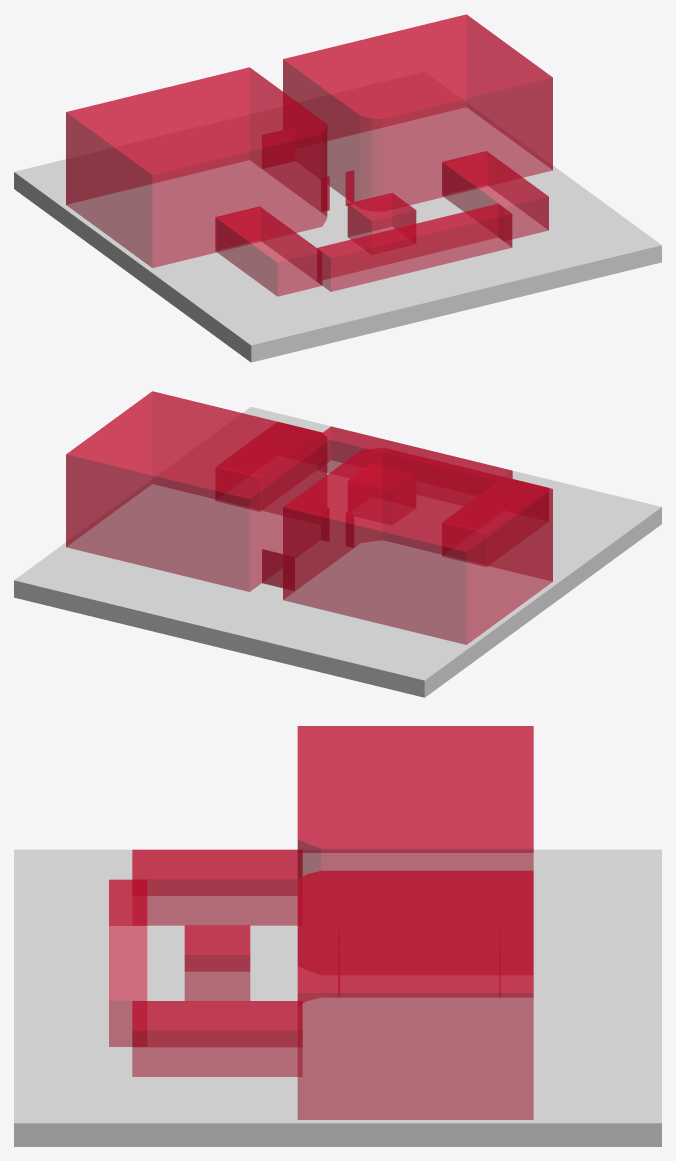
File: school_outside_front.hitboxes.glb
3 views of the same model, one above another, from view 1: azimuth 30°, elevation 25°; view 2: azimuth 150°, elevation 25°; view 3: azimuth 270°, elevation 25° (orthographic). The views are drawn at different scales.
Parts seen in each view (by area): view 1: Floor, HB1, HB3, HB2.003, HB2.002, HB2.001, HB2, HB2.006; view 2: Floor, HB1, HB3, HB2.003, HB2.002, HB2.001, HB2, HB2.006; view 3: Floor, HB3, HB1, HB2.001, HB2.002, HB2.003, HB2.
Boxes of the visible parts, <box> form: Floor: <box>14,72,661,362</box>; HB1: <box>66,67,327,267</box>; HB3: <box>283,14,552,204</box>; HB2.003: <box>317,203,512,291</box>; HB2.002: <box>215,206,322,296</box>; HB2.001: <box>442,151,548,238</box>; HB2: <box>347,192,416,243</box>; HB2.006: <box>262,127,294,168</box>; Floor: <box>14,407,661,697</box>; HB1: <box>283,447,552,644</box>; HB3: <box>66,391,327,591</box>; HB2.003: <box>318,426,512,495</box>; HB2.002: <box>442,477,548,566</box>; HB2.001: <box>215,421,321,511</box>; HB2: <box>348,464,415,512</box>; HB2.006: <box>262,549,294,590</box>; Floor: <box>14,849,661,1146</box>; HB3: <box>297,870,533,1119</box>; HB1: <box>297,726,533,879</box>; HB2.001: <box>132,1001,302,1076</box>; HB2.002: <box>132,849,302,925</box>; HB2.003: <box>109,879,147,1046</box>; HB2: <box>184,925,250,1000</box>.
Size of the model in its own units: 50 by 12.8 by 50.
